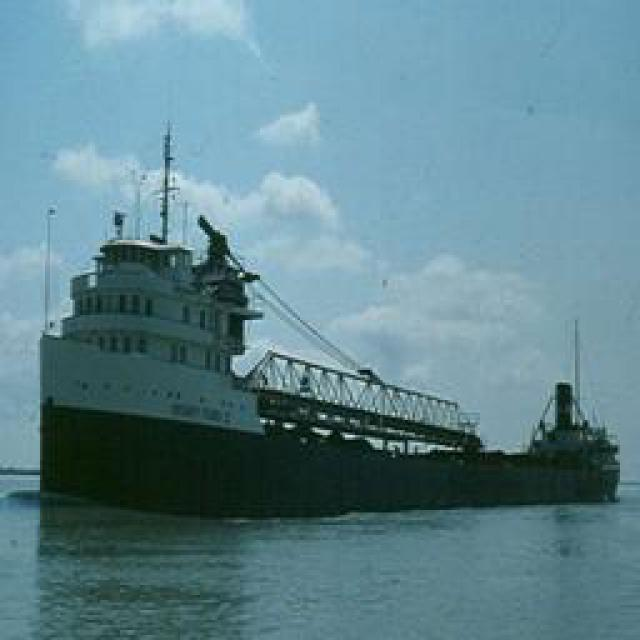Ship: (41, 211, 606, 504)
